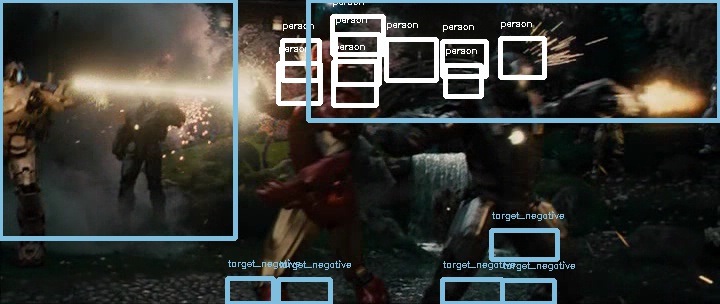person: (302, 41, 345, 84), (301, 41, 344, 84), (303, 41, 346, 84), (302, 40, 345, 83), (302, 42, 345, 85)
target_negative: (161, 1, 385, 225), (4, 144, 586, 201), (379, 211, 634, 297), (540, 82, 667, 135), (536, 15, 543, 140), (405, 249, 430, 251)
